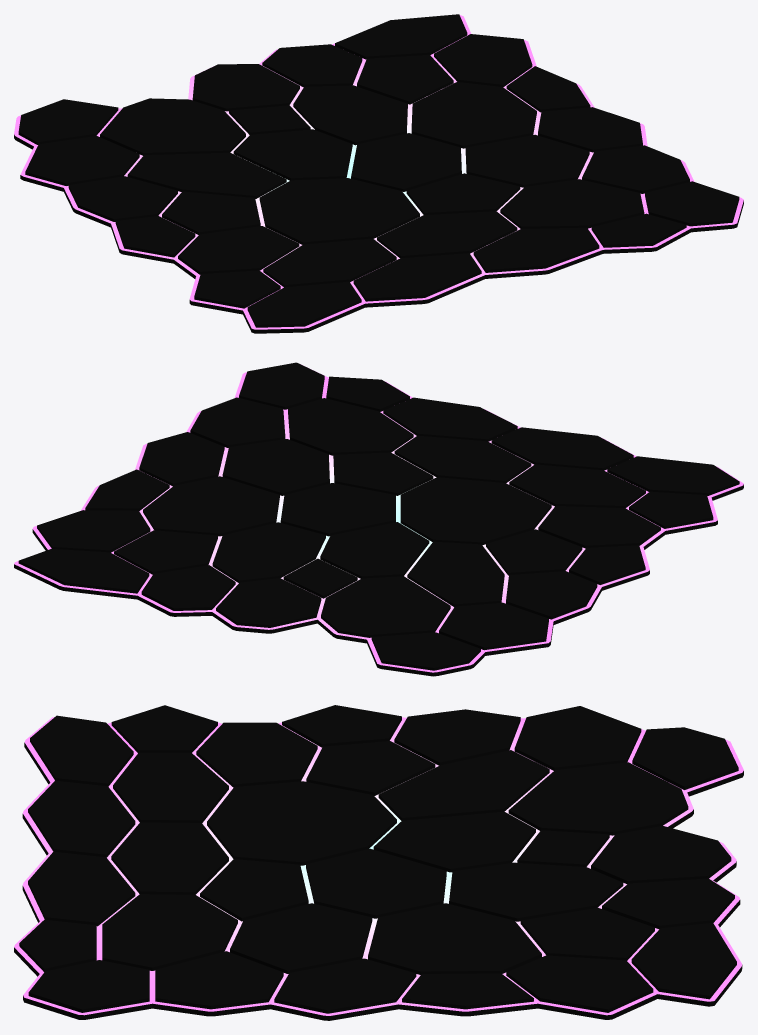
File: platform.glb
3 renders of one model, top to bottom at view 1: azimuth 30°, elevation 25°; view 2: azimuth 150°, elevation 25°; view 3: azimuth 270°, elevation 25°, orthographic. The views are drawn at different scales.
Visible parts, largest first — view 1: Platform; view 2: Platform; view 3: Platform.
Boxes of the visible parts, x1=… form: Platform: x1=14, y1=14, x2=743, y2=333; Platform: x1=14, y1=362, x2=743, y2=676; Platform: x1=14, y1=705, x2=743, y2=1020.
Size of what is drawn, in the model's own units: 15.34 by 0.192 by 15.28.
2 materials, 2 textured.
